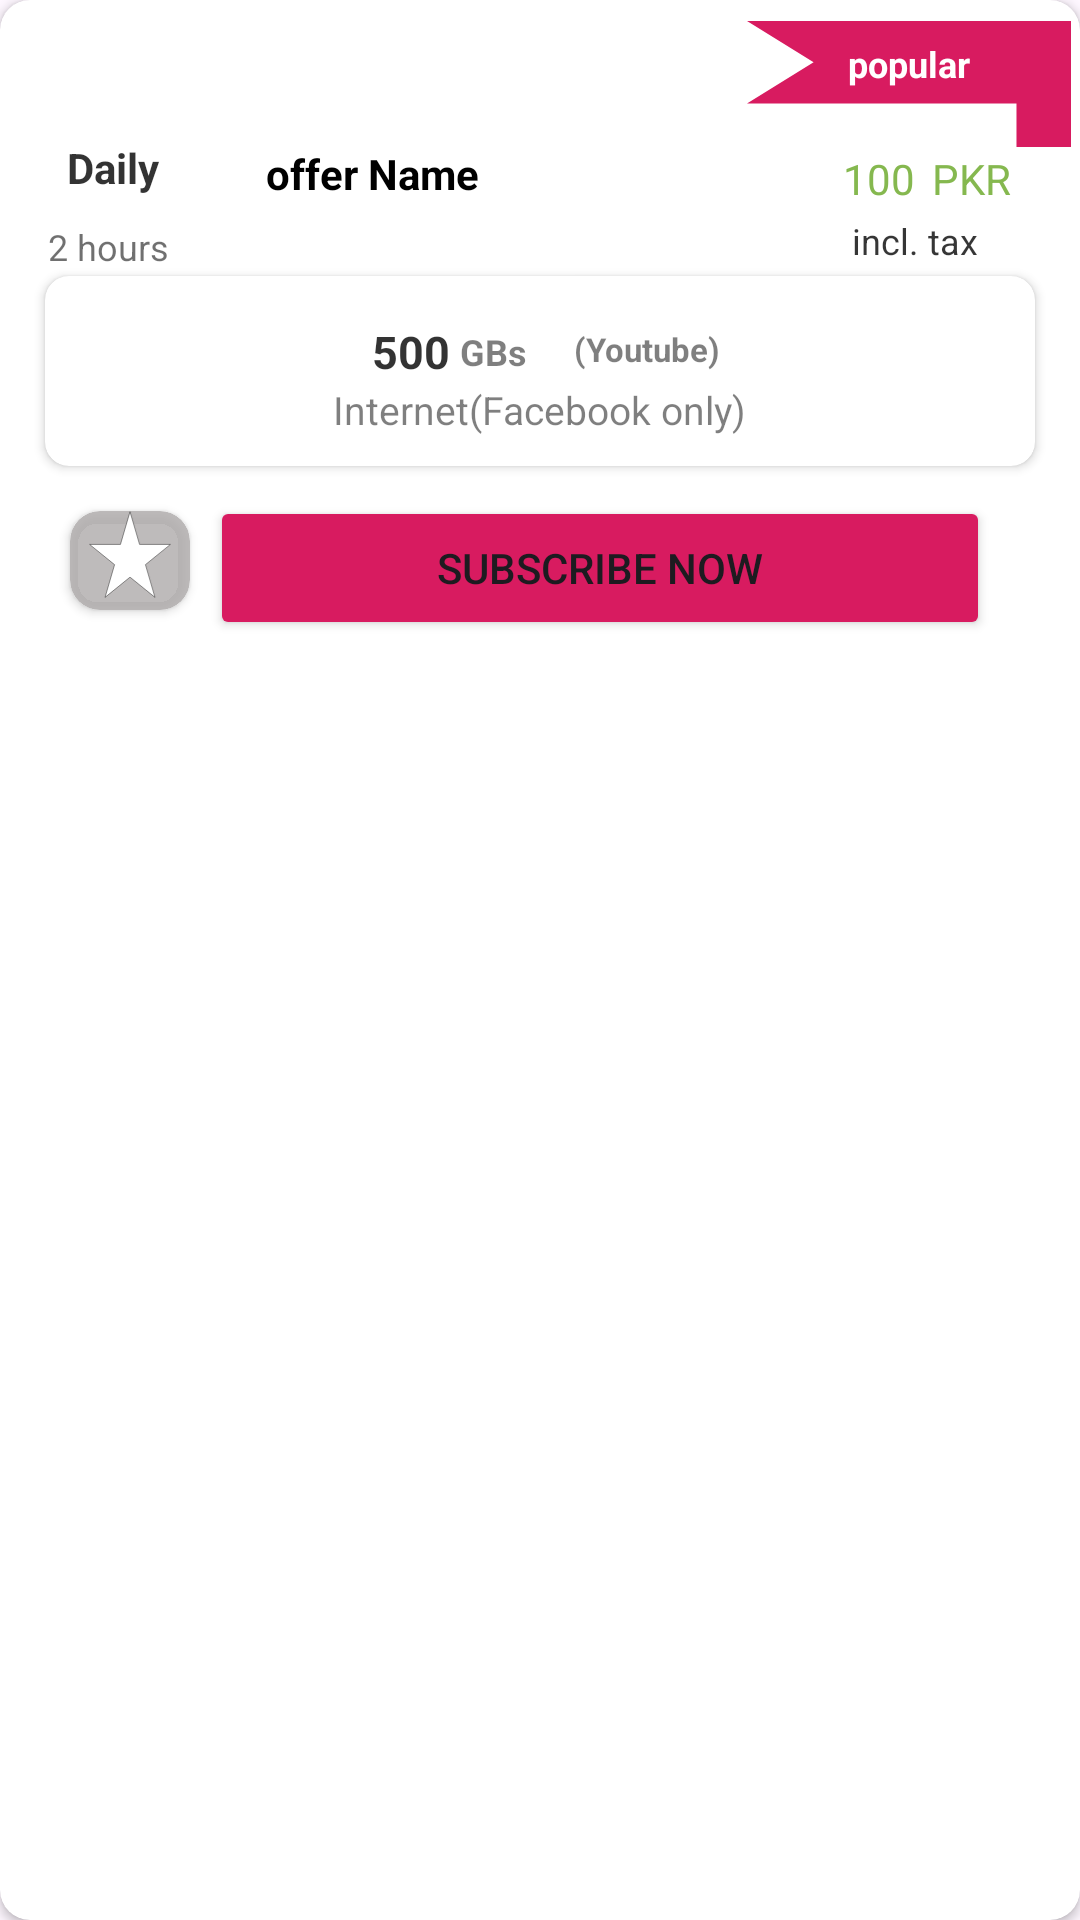

Icon bounding boxes for this 1080×1920 phone screenshot, format Rect(x1, y1, x2, y2):
Star: Rect(70, 511, 190, 598)
